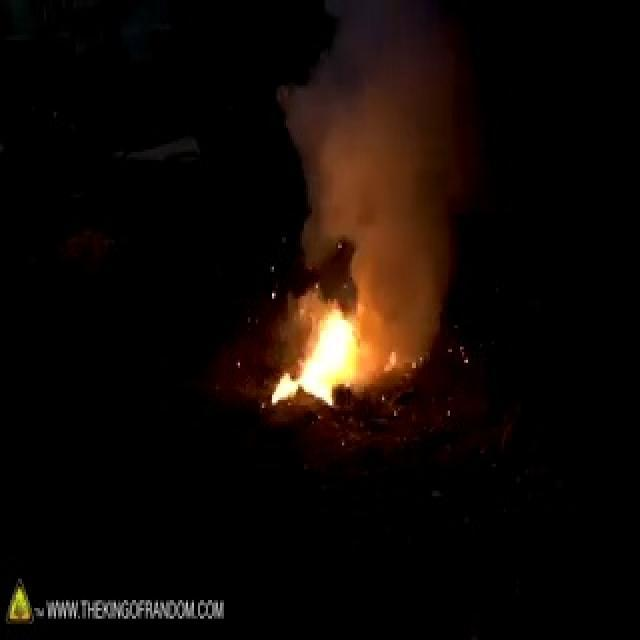Fire: (257, 270, 383, 410)
